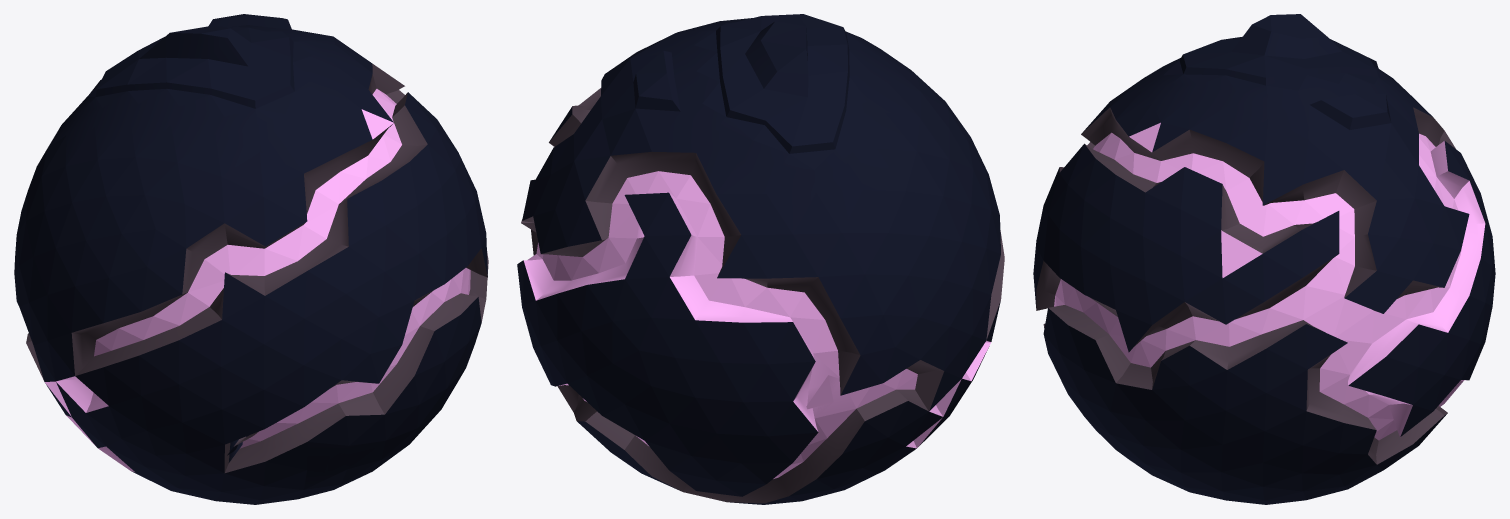
The model's file is Mdl_Planet4.fbx.
The picture shows the model from 3 angles, left to right: view 1: azimuth 30°, elevation 25°; view 2: azimuth 150°, elevation 25°; view 3: azimuth 270°, elevation 25°; orthographic projection. The views are drawn at different scales.
Visible parts, largest first — view 1: pPlatonic1; view 2: pPlatonic1; view 3: pPlatonic1.
Boxes of the visible parts, <box> form: pPlatonic1: <box>14,14,488,504</box>; pPlatonic1: <box>517,14,1004,504</box>; pPlatonic1: <box>1033,14,1495,504</box>.
Size of the model in its own units: 1.99 by 2.13 by 2.
